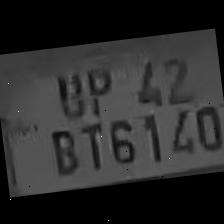0: (188, 95, 224, 152)
1: (133, 103, 167, 164)
2: (154, 45, 194, 103)
4: (125, 50, 164, 108), (160, 100, 196, 158)
6: (101, 110, 140, 166)
B: (43, 120, 81, 177)
P: (80, 55, 116, 112)
T: (72, 114, 108, 174)
U: (48, 59, 86, 120)
